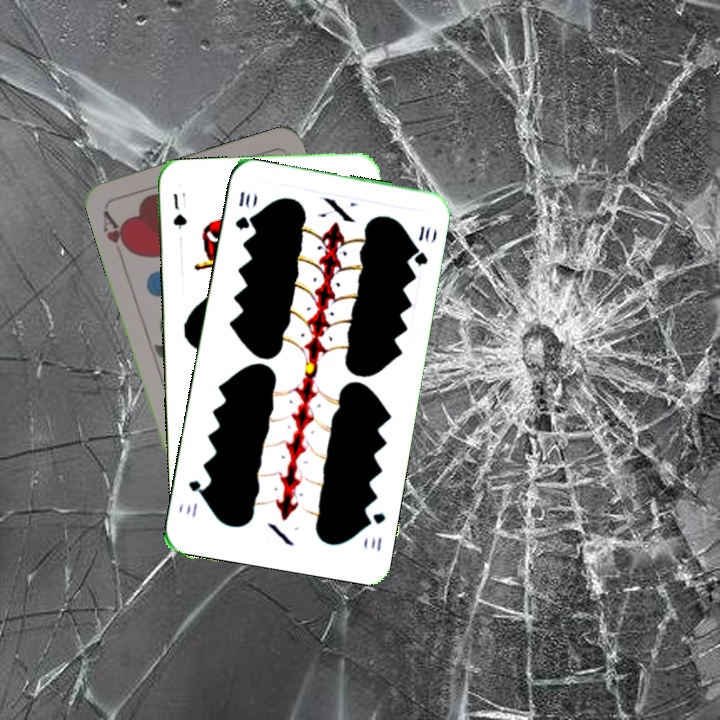G10: (361, 508, 388, 555), (231, 187, 254, 232)
GU: (169, 189, 189, 231)
HA: (98, 206, 134, 262)
